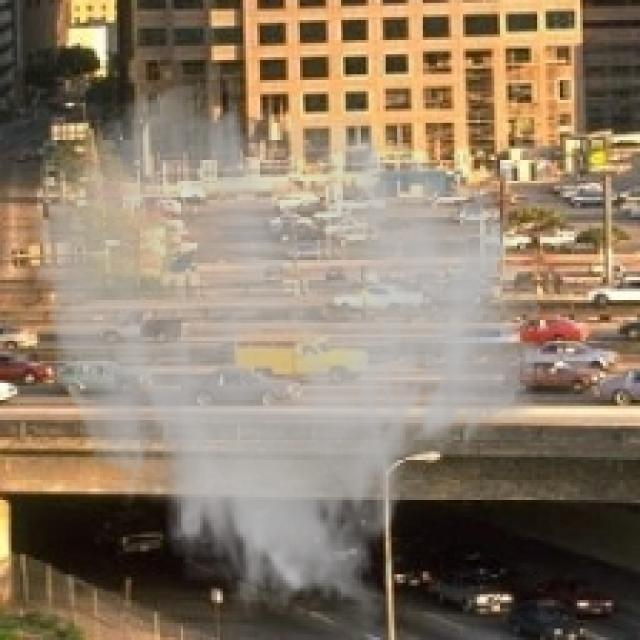Smoke: (26, 79, 546, 632)
